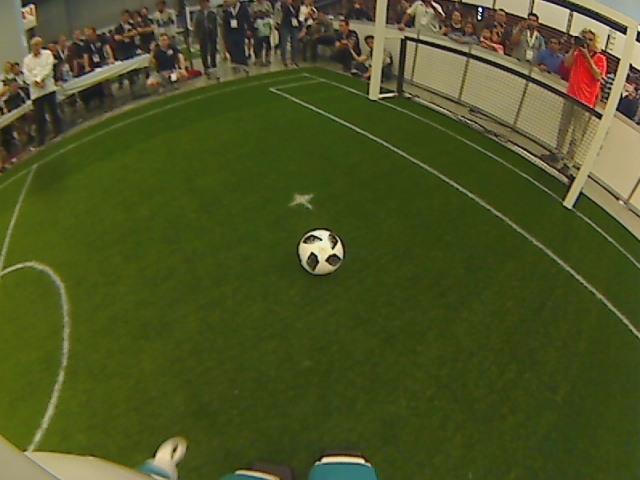ball: (295, 228, 345, 274)
